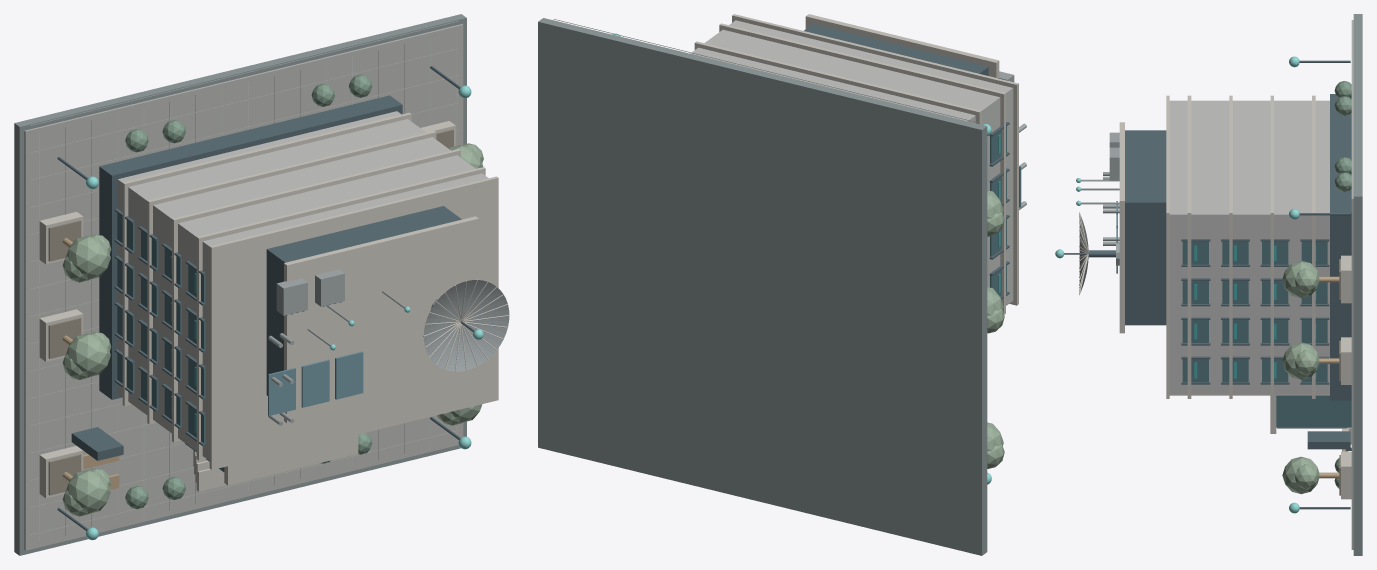
Rendered from tech-lab.glb.
The picture shows the model from 3 angles, left to right: view 1: azimuth 30°, elevation 25°; view 2: azimuth 150°, elevation 25°; view 3: azimuth 270°, elevation 25°; orthographic projection. The views are drawn at different scales.
Parts seen in each view (by area): view 1: 0002_Paved_plaza, 0036_Main_lab_block, 0042_Horizontal_architecture_trim, 0347_Rooftop_cap, 0001_Foundation, 0037_Basement_band, 0384_Satellite_dish_parabolic_surface, 0346_Rooftop_penthouse, 0041_Horizontal_architecture_trim, 0038_Horizontal_architecture_trim, 0039_Horizontal_architecture_trim, 0040_Horizontal_architecture_trim (+16 smaller); view 2: 0001_Foundation, 0036_Main_lab_block, 0042_Horizontal_architecture_trim, 0041_Horizontal_architecture_trim, 0347_Rooftop_cap, 0040_Horizontal_architecture_trim, 0346_Rooftop_penthouse; view 3: 0036_Main_lab_block, 0346_Rooftop_penthouse, 0001_Foundation, 0037_Basement_band, 0355_Entrance_glass_atrium, 0002_Paved_plaza, 0041_Horizontal_architecture_trim, 0347_Rooftop_cap, 0040_Horizontal_architecture_trim, 0042_Horizontal_architecture_trim, 0039_Horizontal_architecture_trim, 0038_Horizontal_architecture_trim (+24 smaller).
Boxes of the visible parts, bbox=[...] form: 0002_Paved_plaza: bbox=[24, 24, 463, 550]; 0036_Main_lab_block: bbox=[117, 111, 488, 460]; 0042_Horizontal_architecture_trim: bbox=[209, 176, 498, 469]; 0347_Rooftop_cap: bbox=[284, 216, 478, 423]; 0001_Foundation: bbox=[14, 14, 466, 555]; 0037_Basement_band: bbox=[99, 95, 402, 399]; 0384_Satellite_dish_parabolic_surface: bbox=[423, 280, 509, 371]; 0346_Rooftop_penthouse: bbox=[266, 206, 461, 395]; 0041_Horizontal_architecture_trim: bbox=[196, 167, 485, 460]; 0038_Horizontal_architecture_trim: bbox=[122, 112, 411, 406]; 0039_Horizontal_architecture_trim: bbox=[147, 131, 436, 424]; 0040_Horizontal_architecture_trim: bbox=[172, 149, 460, 442]; 0001_Foundation: bbox=[538, 18, 987, 555]; 0036_Main_lab_block: bbox=[690, 20, 1013, 305]; 0042_Horizontal_architecture_trim: bbox=[732, 14, 1018, 305]; 0041_Horizontal_architecture_trim: bbox=[719, 23, 1005, 314]; 0347_Rooftop_cap: bbox=[805, 14, 999, 78]; 0040_Horizontal_architecture_trim: bbox=[694, 41, 981, 124]; 0346_Rooftop_penthouse: bbox=[804, 24, 988, 75]; 0036_Main_lab_block: bbox=[1169, 100, 1329, 394]; 0346_Rooftop_penthouse: bbox=[1125, 130, 1166, 325]; 0001_Foundation: bbox=[1353, 14, 1362, 555]; 0037_Basement_band: bbox=[1330, 94, 1351, 400]; 0355_Entrance_glass_atrium: bbox=[1276, 395, 1351, 427]; 0002_Paved_plaza: bbox=[1351, 20, 1353, 549]; 0041_Horizontal_architecture_trim: bbox=[1187, 95, 1191, 398]; 0347_Rooftop_cap: bbox=[1119, 122, 1124, 333]; 0040_Horizontal_architecture_trim: bbox=[1229, 95, 1232, 398]; 0042_Horizontal_architecture_trim: bbox=[1166, 95, 1169, 398]; 0039_Horizontal_architecture_trim: bbox=[1270, 95, 1273, 398]; 0038_Horizontal_architecture_trim: bbox=[1312, 95, 1315, 398].
Size of the model in its own units: 24 by 22.01 by 17.06.
